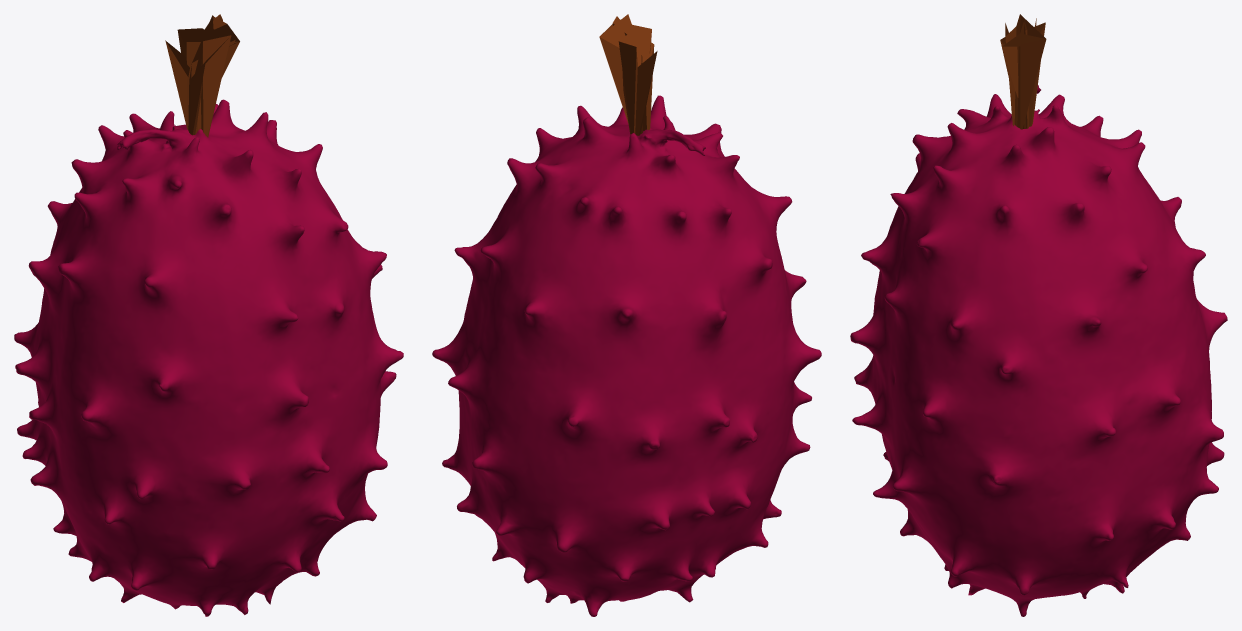
Rendered from Fruit_Cherri.fbx.
The picture shows the model from 3 angles, left to right: view 1: azimuth 30°, elevation 25°; view 2: azimuth 150°, elevation 25°; view 3: azimuth 270°, elevation 25°; orthographic projection. The views are drawn at different scales.
Parts seen in each view (by area): view 1: kiwano_rigsters, Cylinder; view 2: kiwano_rigsters, Cylinder; view 3: kiwano_rigsters, Cylinder.
Part boxes in pixels (x1,y1,x2,y2): kiwano_rigsters: (14, 99, 403, 616); Cylinder: (165, 14, 239, 137); kiwano_rigsters: (432, 95, 821, 616); Cylinder: (599, 14, 657, 135); kiwano_rigsters: (850, 85, 1227, 616); Cylinder: (1000, 14, 1046, 129).
Bounding box in the file's own units: 299 × 499 × 297.
